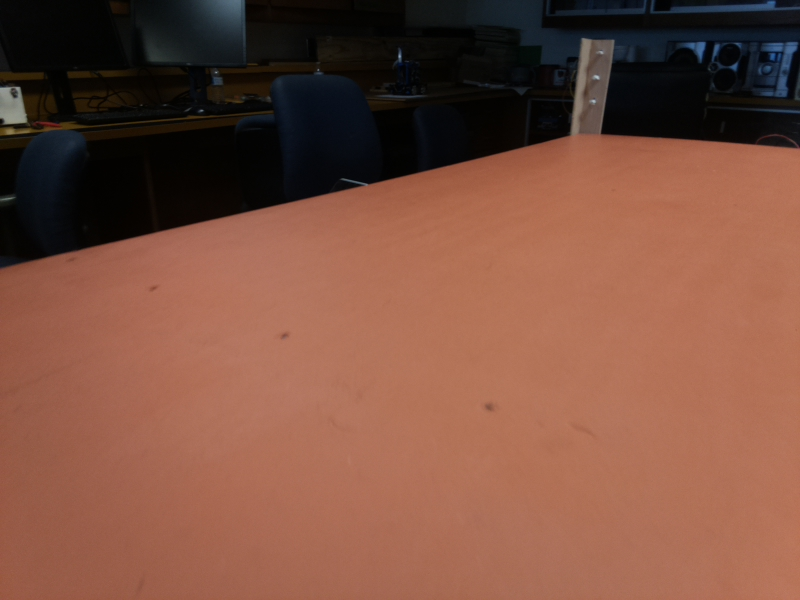corner: (573, 40, 617, 136)
